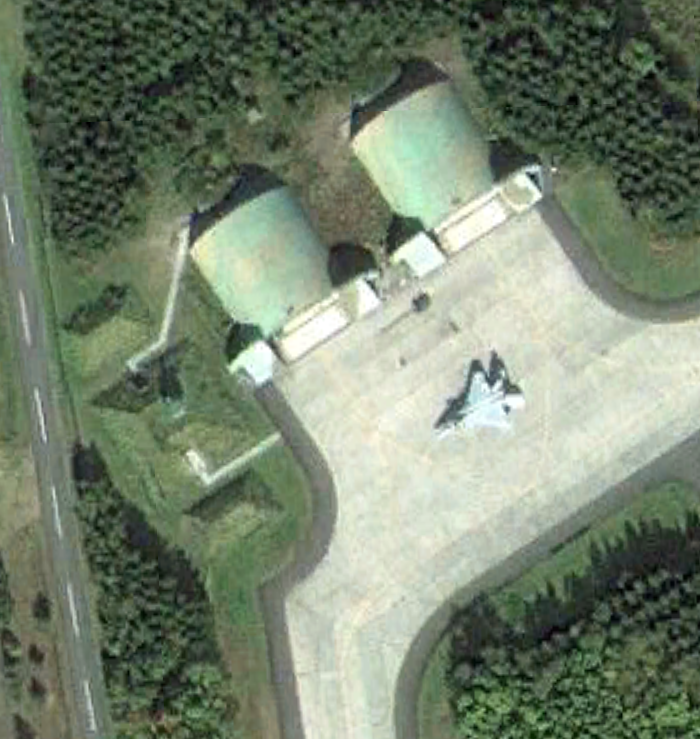A15: (425, 351, 537, 446)
